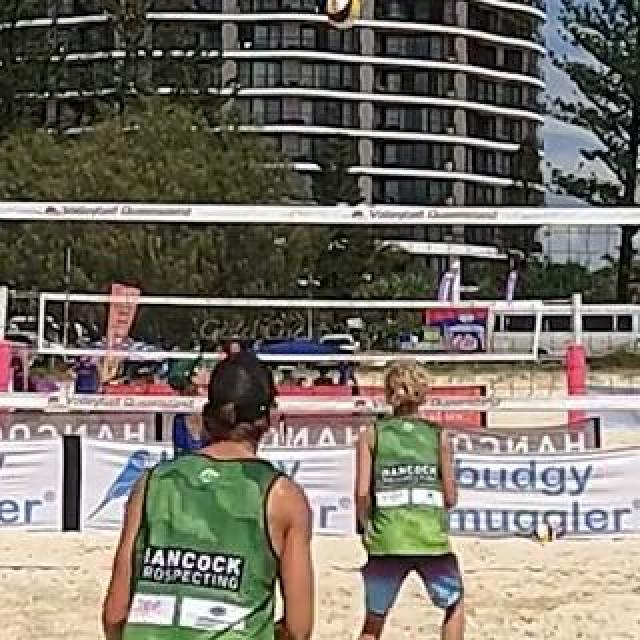volleyball: (322, 2, 368, 24), (533, 522, 557, 546)
